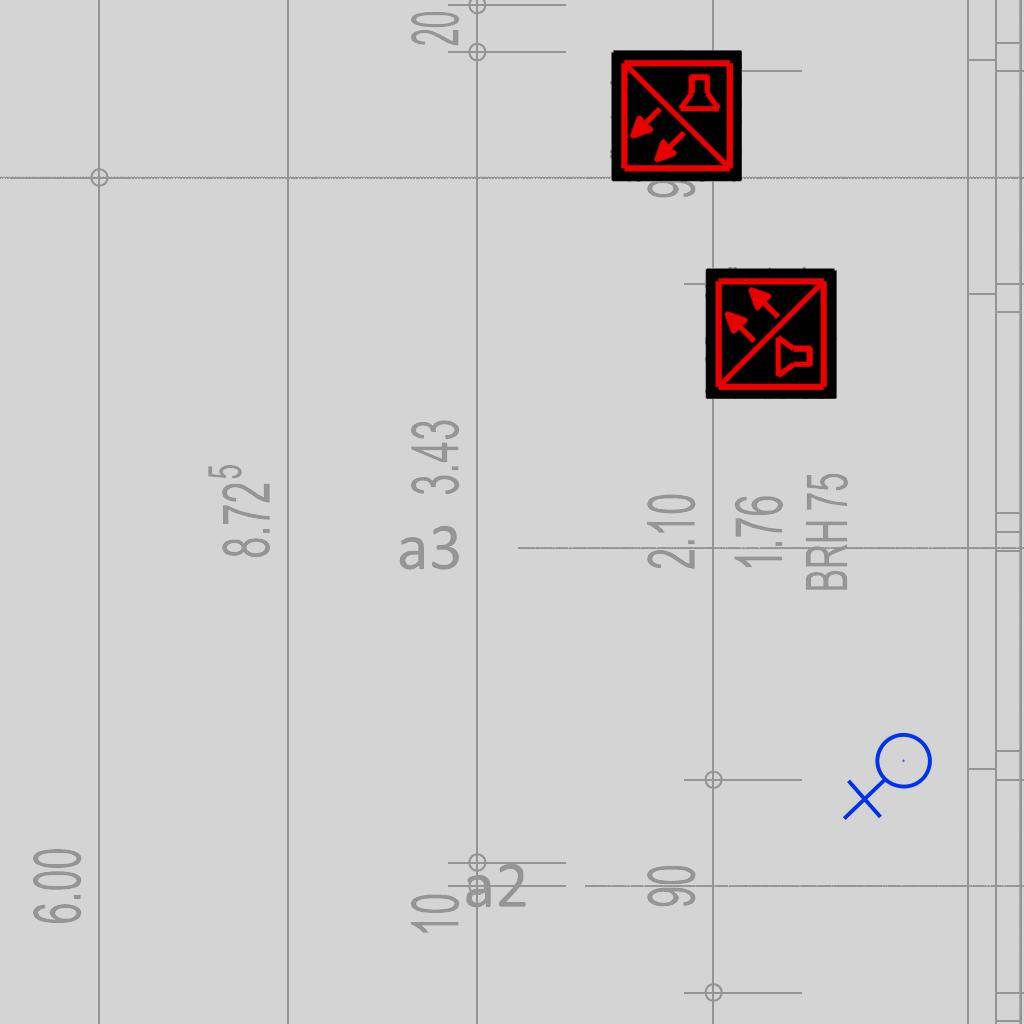Elektroanschluss_allgemein_230V_Geraeteanschlussdose_230V: (842, 731, 941, 825)
OKW_Multisensormelder_(Kombination_optischer_Rauch-Kahlenmonoxid_Waerme-Melder): (610, 50, 742, 182), (705, 267, 837, 399)
